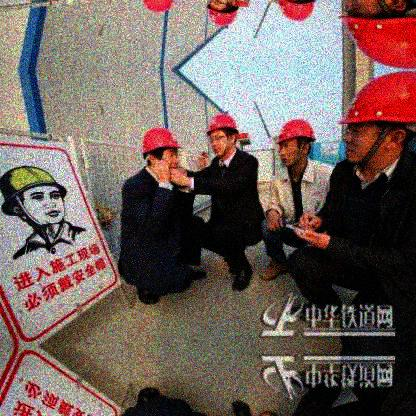helmet: (342, 73, 414, 169), (341, 1, 415, 73), (4, 166, 68, 234), (277, 119, 312, 172), (143, 129, 180, 177), (209, 115, 238, 157)
